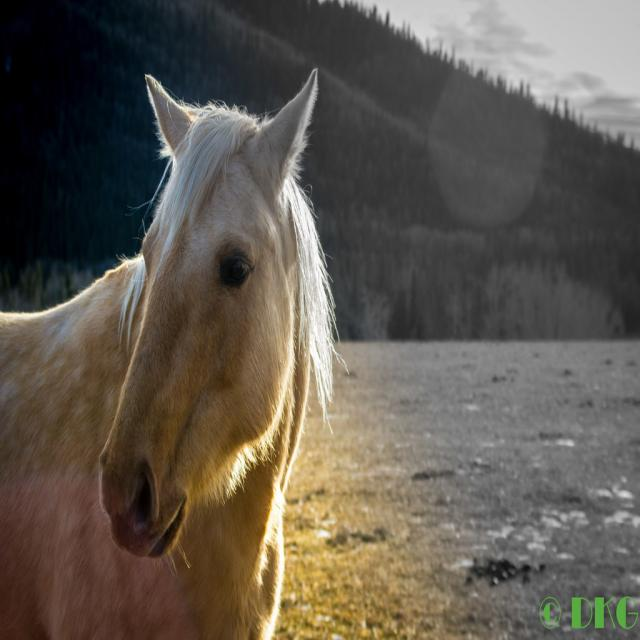Horse: (1, 66, 348, 639)
